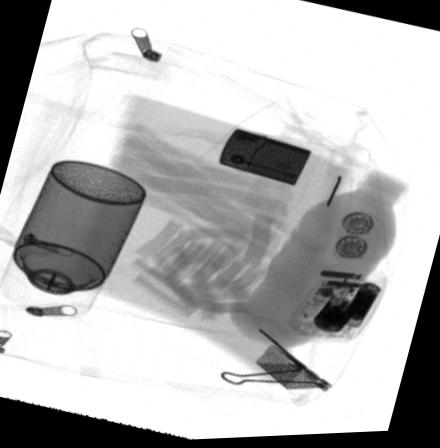Lighter: (219, 131, 312, 189)
Sprayer: (0, 162, 147, 322)
